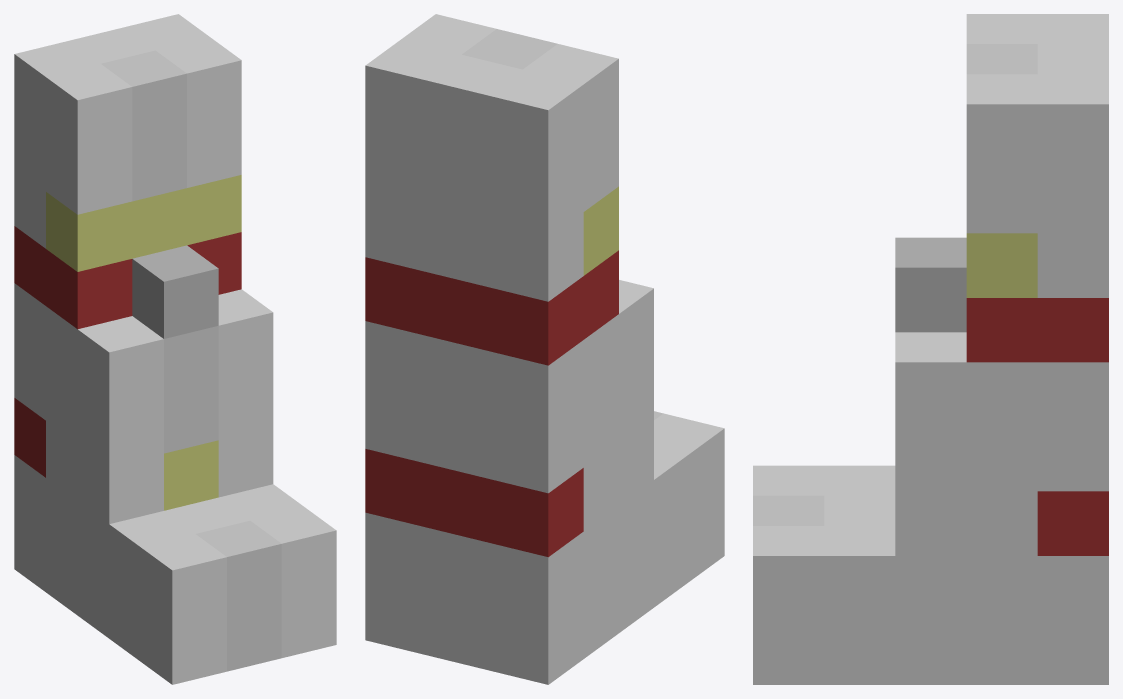
Rendered from Ain-4.obj.
3 renders of one model, left to right at view 1: azimuth 30°, elevation 25°; view 2: azimuth 150°, elevation 25°; view 3: azimuth 270°, elevation 25°, orthographic. The views are drawn at different scales.
Parts seen in each view (by area): view 1: Ain-4; view 2: Ain-4; view 3: Ain-4.
Boxes of the visible parts, x1,y1,x2,y2 form: Ain-4: [14, 14, 336, 684]; Ain-4: [365, 14, 724, 684]; Ain-4: [753, 14, 1108, 684].
Size of the model in its own units: 3 by 9 by 5.
1 material, 1 textured.
